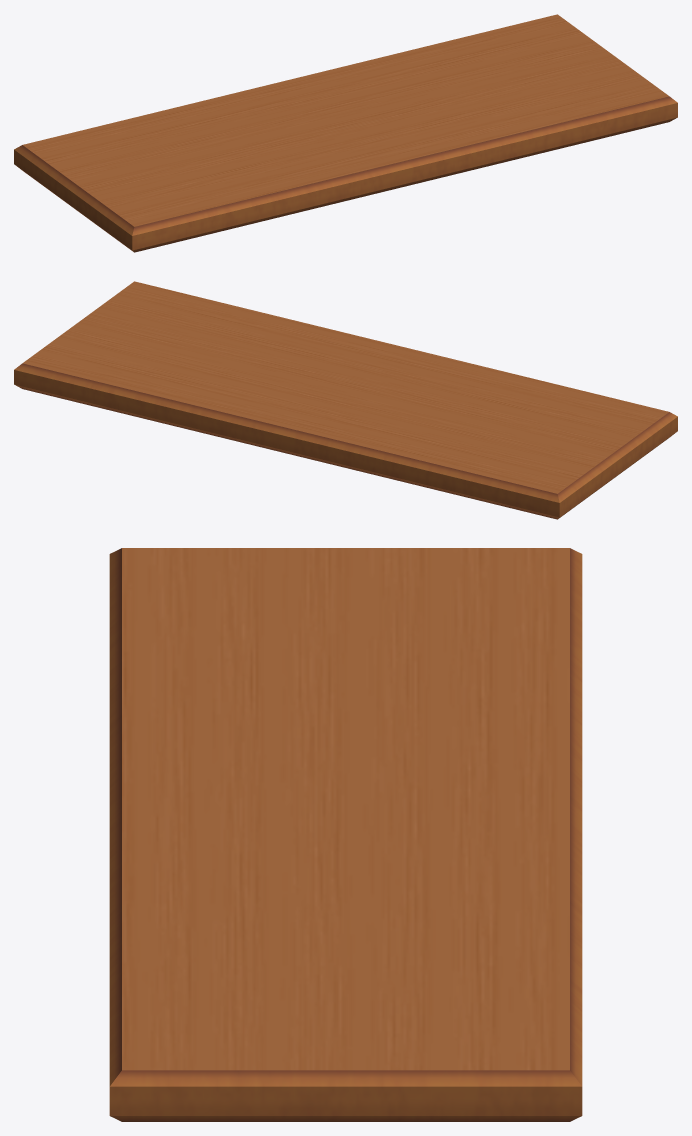
The model's file is Wall_Shelf_A.FBX.
3 views of the same model, one above another, from view 1: azimuth 30°, elevation 25°; view 2: azimuth 150°, elevation 25°; view 3: azimuth 270°, elevation 25° (orthographic). The views are drawn at different scales.
Visible parts, largest first — view 1: Shelf; view 2: Shelf; view 3: Shelf.
Part boxes in pixels (x1,y1,x2,y2): Shelf: [14, 14, 677, 252]; Shelf: [14, 281, 677, 519]; Shelf: [109, 548, 582, 1121].
Size of the model in its own units: 200 by 9 by 75.
